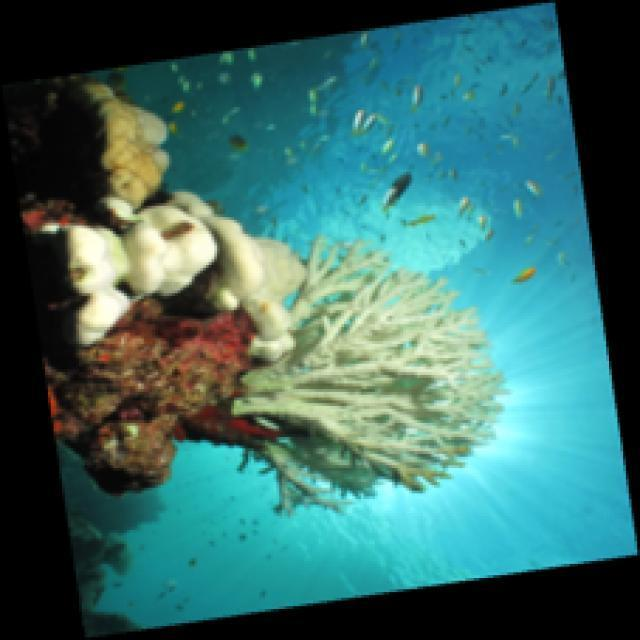Bleached: (242, 240, 508, 514), (175, 185, 308, 361), (90, 81, 172, 214), (63, 219, 135, 352), (130, 204, 222, 303)
